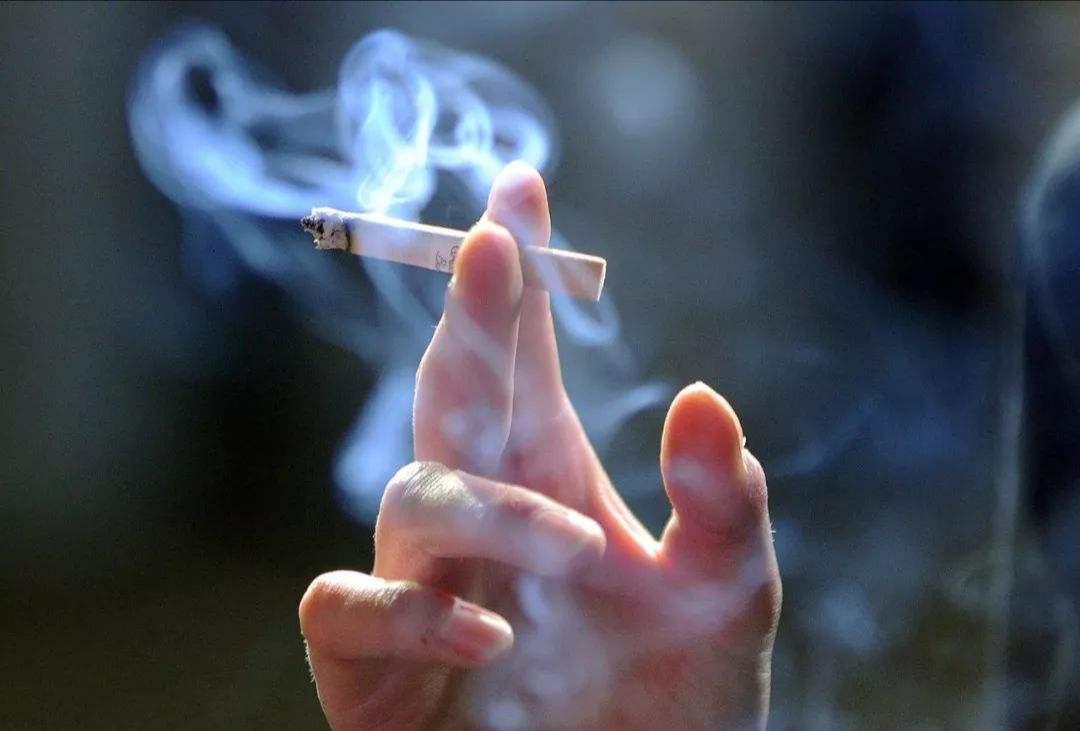Cigarette: (304, 207, 609, 303)
Smoke: (132, 25, 642, 484)
